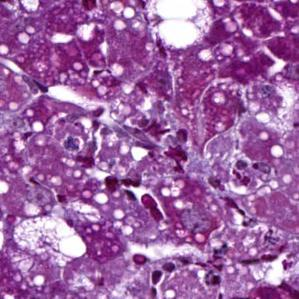ballooning: (9, 212, 90, 267), (144, 3, 215, 54)
